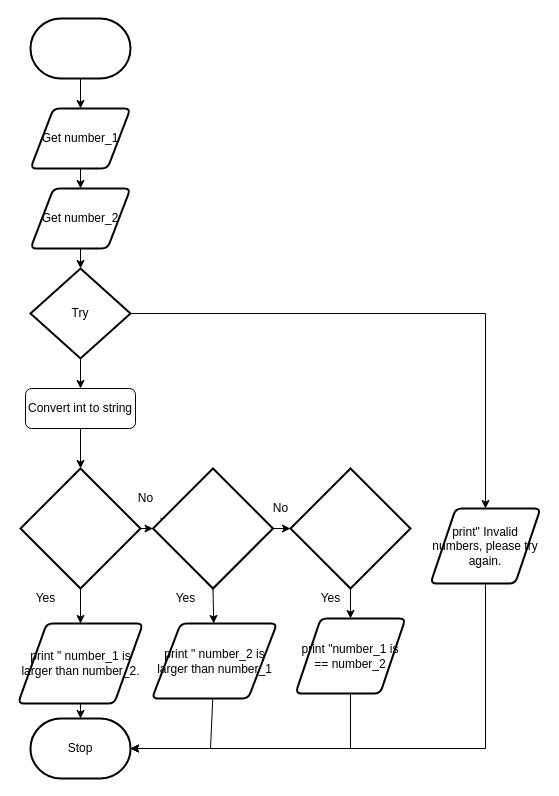
Image size: 559x796. Some labels were removed from this diagram. The shapes that lost their labels are listed below. From the top down, each one's centre as x and y in pixels, then its label:
At pixel 80 48: "Start".
At pixel 80 528: "if number_1 < number_2".
At pixel 213 528: "if number_2 > number_1".
At pixel 350 528: "else".
